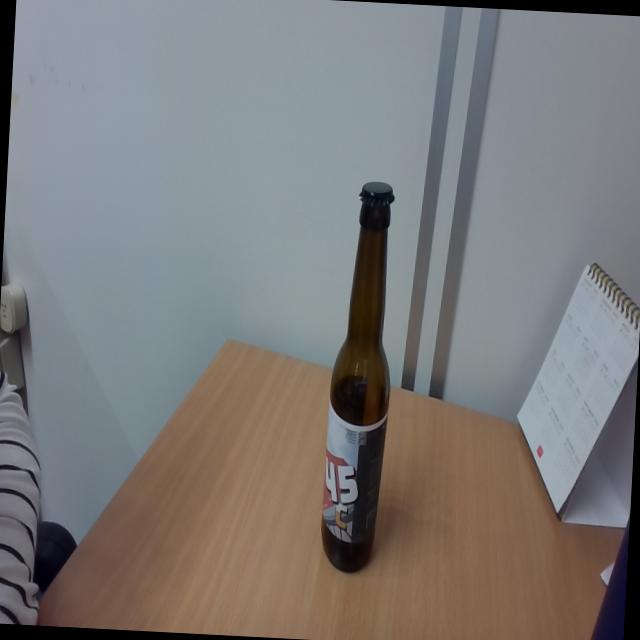Bottle: (317, 178, 405, 574)
Cap: (356, 178, 398, 212)
Label: (319, 409, 386, 546)
